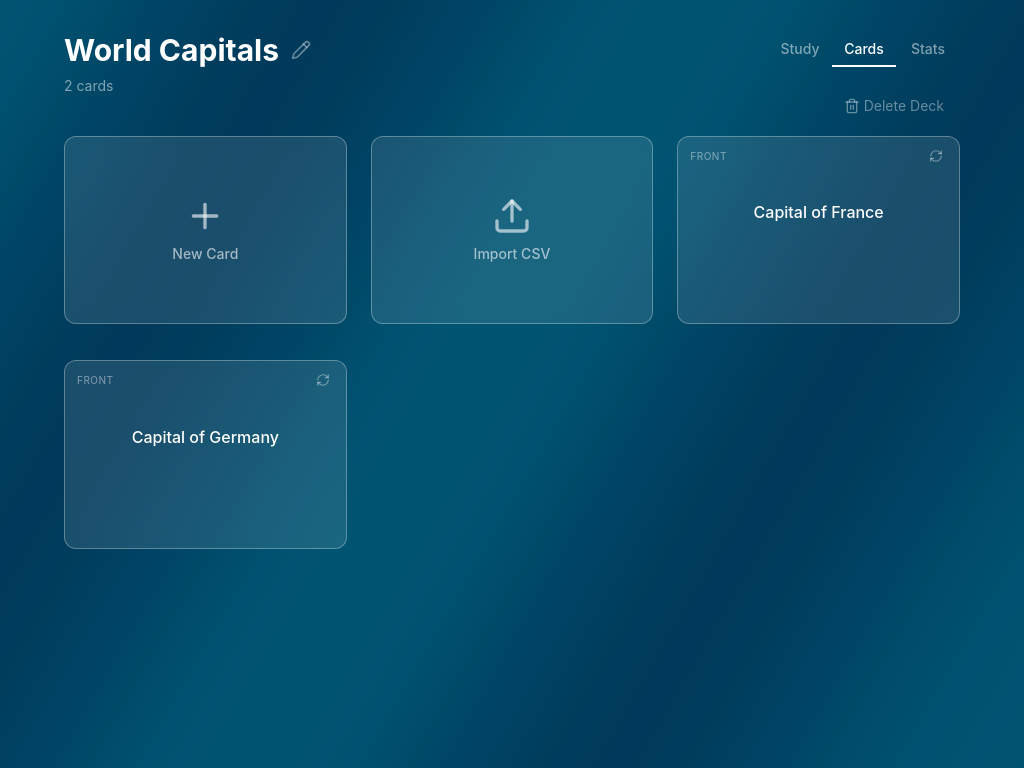
Test: DeckCardsPage › shows Import CSV tile that opens form with instructions
This screenshot has width=1024, height=768.
Check: the text "Import CSV" is shown, box [474, 244, 550, 264]
Click the button "Import CSV": click(512, 224) [371, 124, 653, 324]
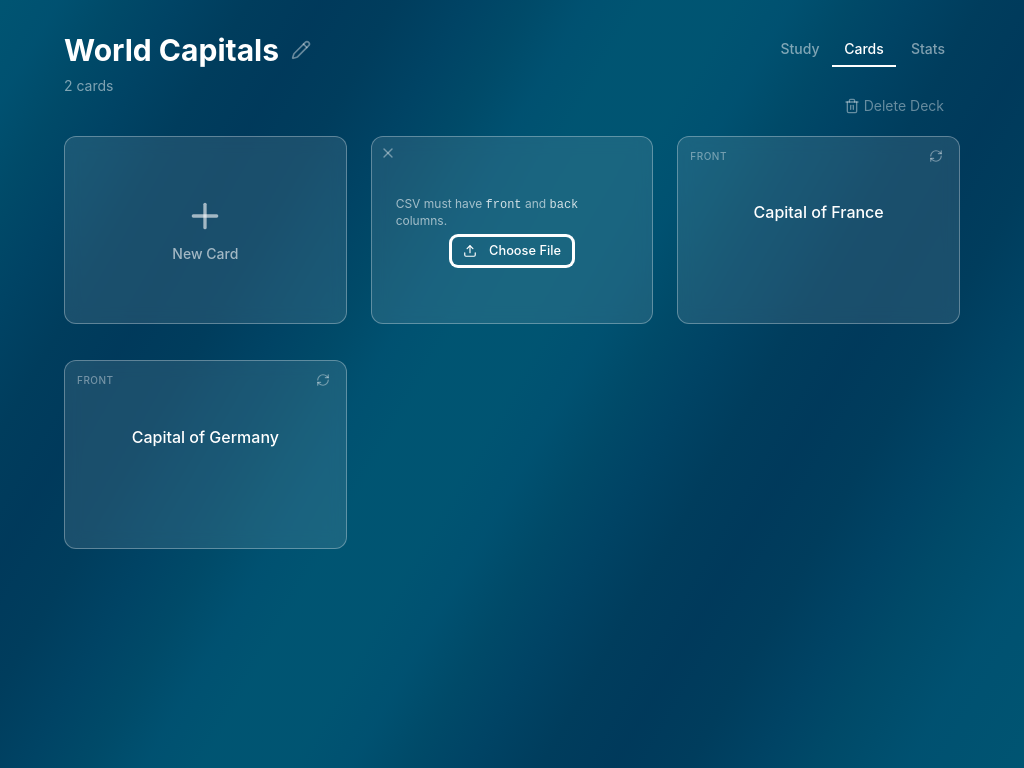
Check: the text "CSV must have front and back columns." is shown, box [396, 196, 578, 228]
Check: the button "Choose File" is shown, box [452, 237, 572, 265]
